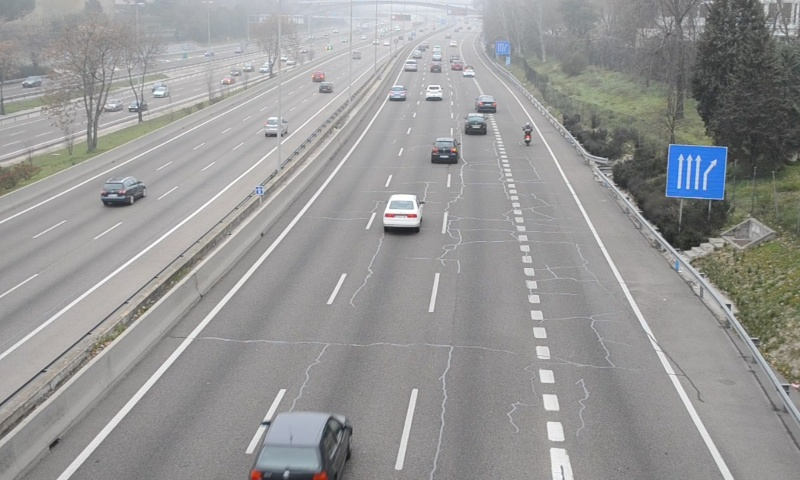car: (249, 411, 352, 479), (384, 193, 423, 228), (431, 138, 460, 164), (464, 113, 487, 135), (476, 94, 498, 112), (424, 84, 444, 100), (388, 85, 406, 101)
motorcycle: (522, 122, 534, 147)
